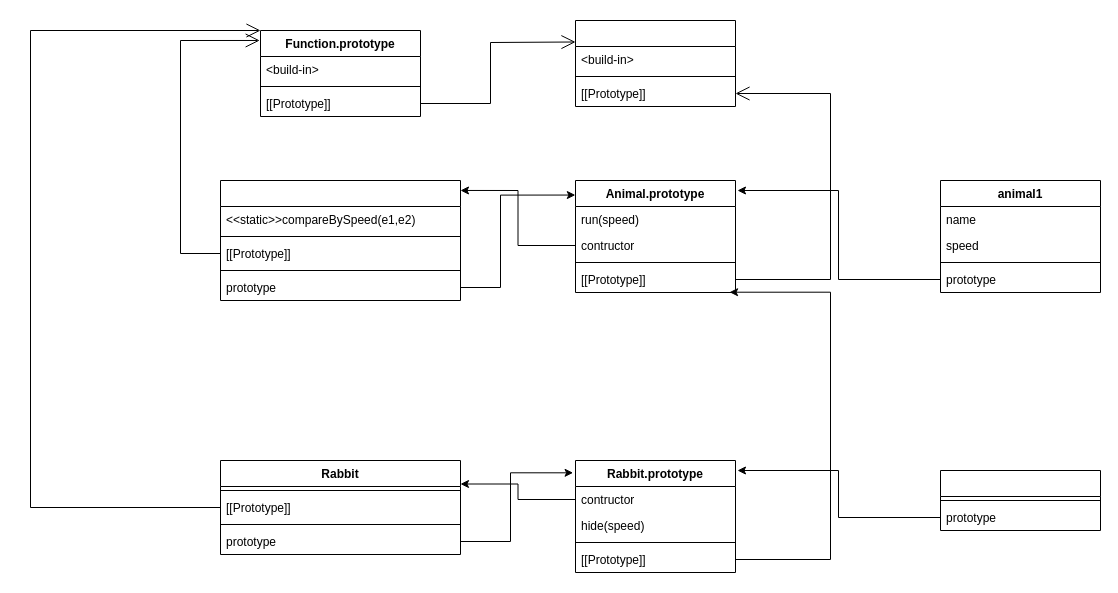
The diagram is 1118 pixels wide and 593 high, and some of its shapes have lost their labels. Each missing label, with the box of its shape:
Animal: (220, 180, 460, 300)
Object.prototype: (574, 20, 736, 106)
rabbit1: (940, 470, 1100, 530)
